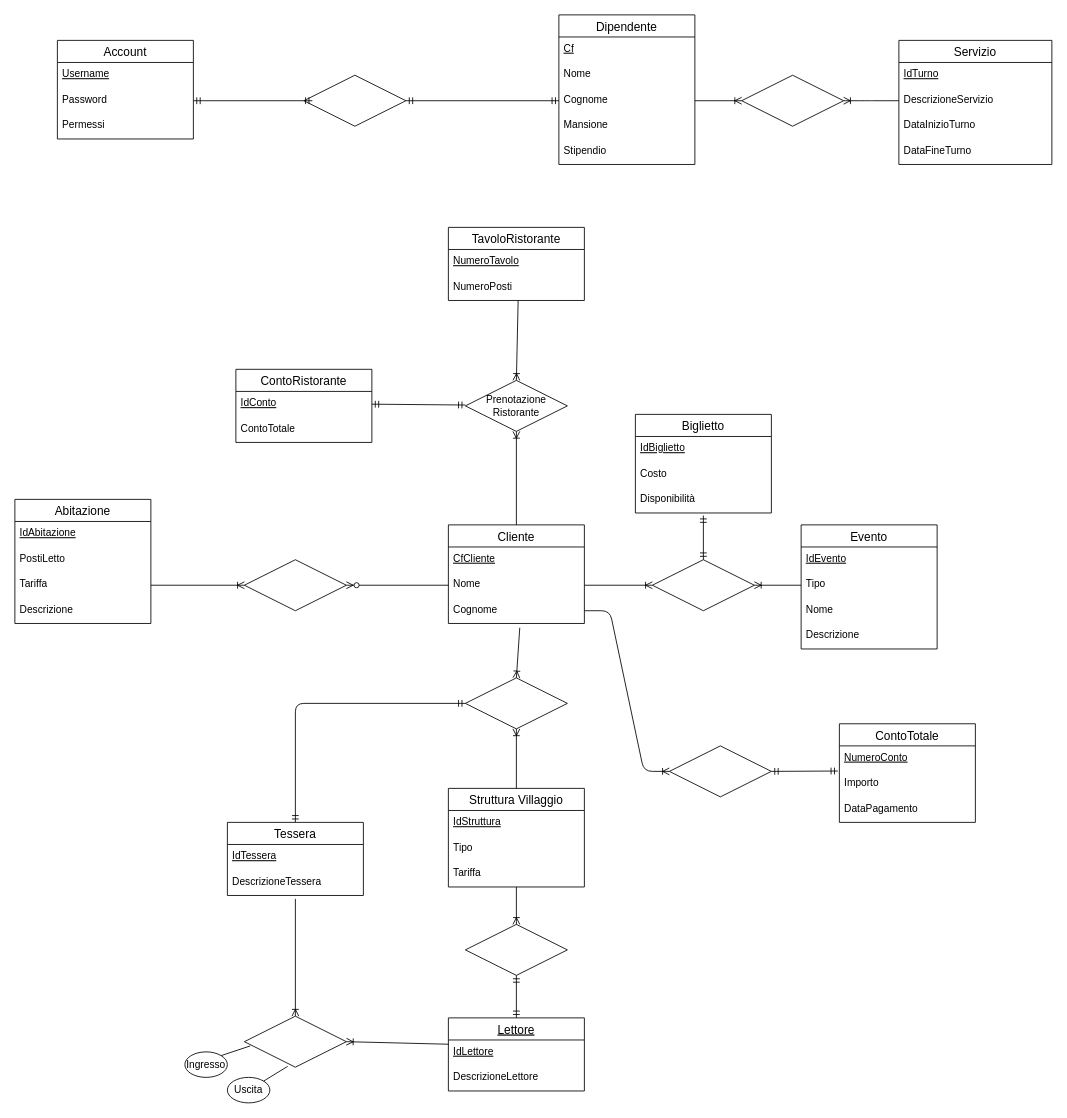
Some shapes in this 1067 by 1118 pixel diagram are drawn without their labels. The centre of each missing label's shape, as x and y in pixels:
Iscrizione: the point at 354,100
Movimento: the point at 295,1041
Pagamento: the point at 720,771
Possesso: the point at 516,949
Prenotazione Abitazione: the point at 295,585
Prenotazione evento: the point at 703,585
Prenotazione Struttura: the point at 516,703
TurnoLavoro: the point at 792,100
